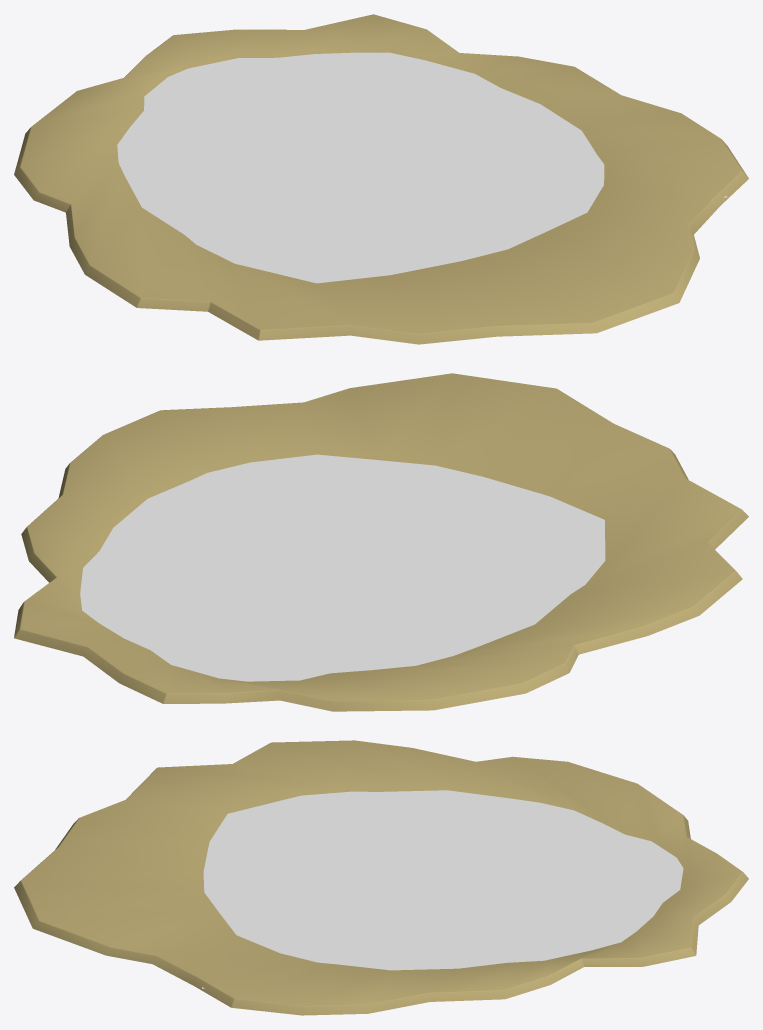
Rendered from oasisV3.fbx.
3 renders of one model, top to bottom at view 1: azimuth 30°, elevation 25°; view 2: azimuth 150°, elevation 25°; view 3: azimuth 270°, elevation 25°, orthographic. The views are drawn at different scales.
Visible parts, largest first — view 1: Circle.001, Plane.001; view 2: Circle.001, Plane.001; view 3: Circle.001, Plane.001.
Part boxes in pixels (box(x1,y1,x2,y2)): Circle.001: box(14, 14, 748, 344); Plane.001: box(117, 52, 726, 283); Circle.001: box(14, 373, 748, 711); Plane.001: box(80, 454, 605, 681); Circle.001: box(14, 740, 748, 1015); Plane.001: box(202, 790, 683, 988).
Size of the model in its own units: 859 by 13.06 by 986.
